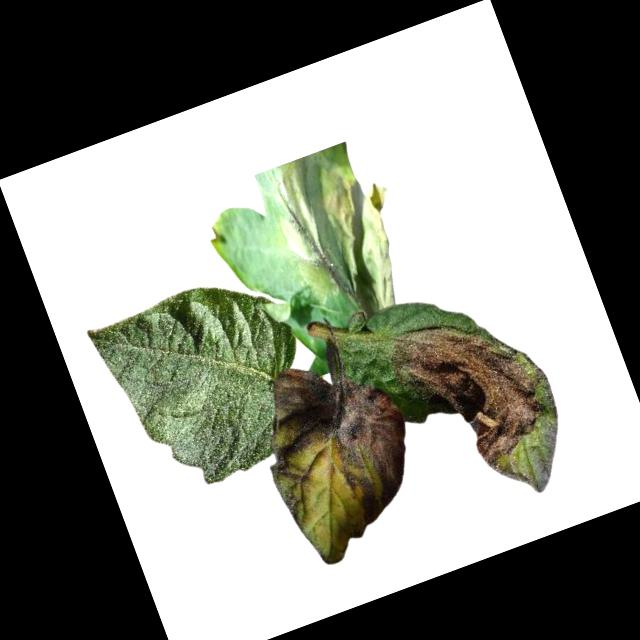Late_blight: (236, 337, 443, 574), (383, 292, 584, 527), (260, 132, 424, 331)
healthy: (84, 259, 334, 506)
